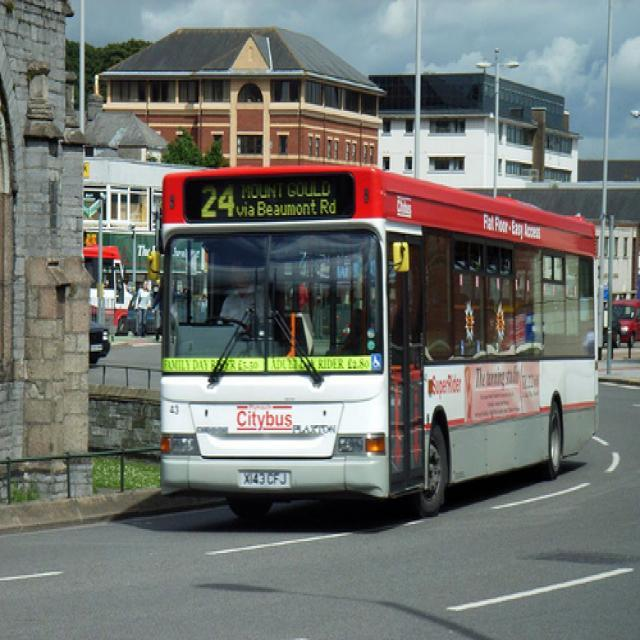Bus: (146, 160, 614, 539)
